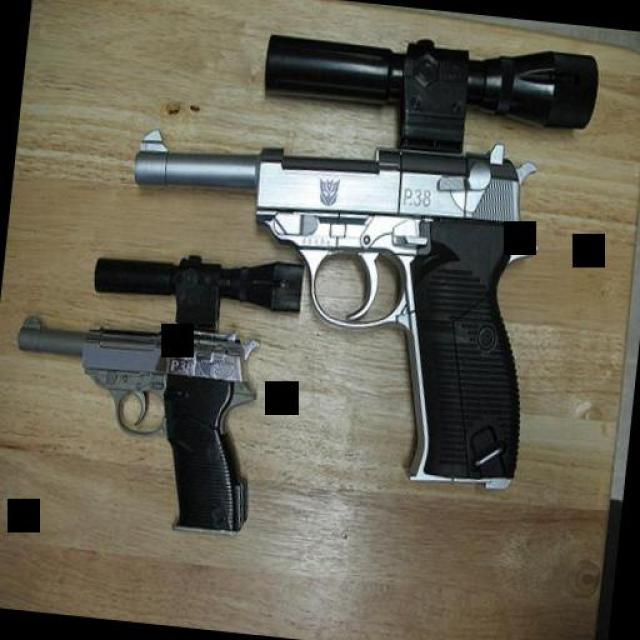gun: (101, 102, 545, 492), (0, 304, 268, 534)
